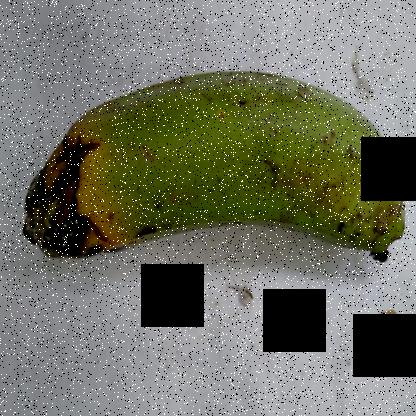rotten: (13, 92, 152, 318)
unripe: (127, 29, 410, 284)
